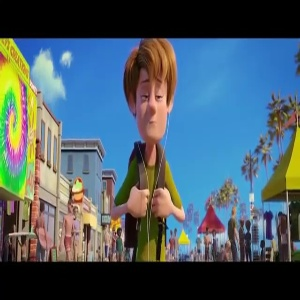Shagy: (120, 37, 184, 149)
